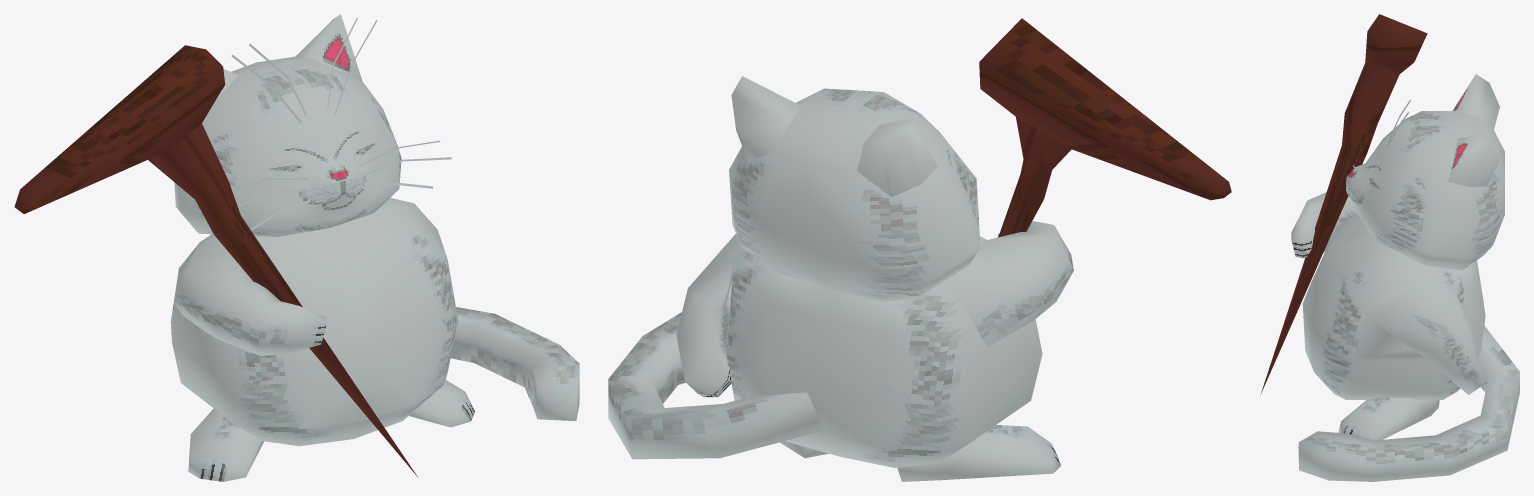
The model's file is ps2_save-icons_zneo.glb.
The picture shows the model from 3 angles, left to right: view 1: azimuth 30°, elevation 25°; view 2: azimuth 150°, elevation 25°; view 3: azimuth 270°, elevation 25°; orthographic projection. The views are drawn at different scales.
Parts seen in each view (by area): view 1: ドラゴンボールZスパーキング!NEO; view 2: ドラゴンボールZスパーキング!NEO; view 3: ドラゴンボールZスパーキング!NEO.
Part boxes in pixels (x1,y1,x2,y2): ドラゴンボールZスパーキング!NEO: [14, 14, 579, 481]; ドラゴンボールZスパーキング!NEO: [608, 18, 1231, 481]; ドラゴンボールZスパーキング!NEO: [1260, 14, 1519, 481].
Size of the model in its own units: 4.21 by 3.08 by 2.18.
Materials: 1 (1 with a texture image).
